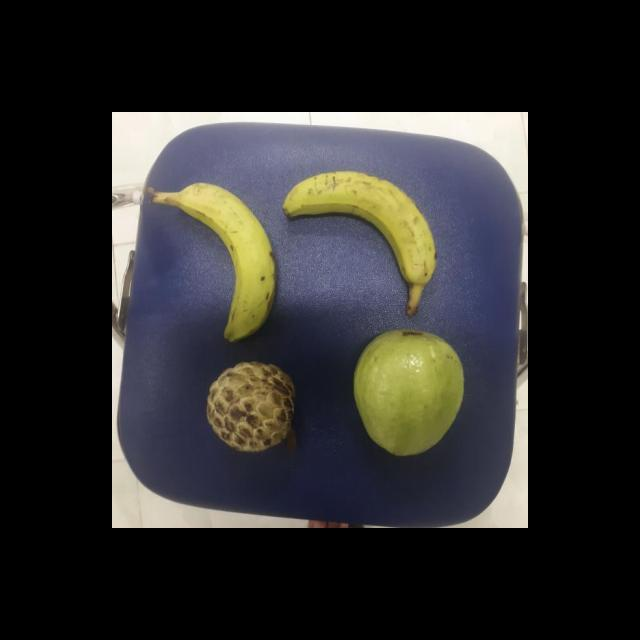Sakya fruit: (202, 357, 299, 453)
banana: (276, 166, 440, 292), (168, 179, 278, 346)
guava: (347, 324, 466, 456)
